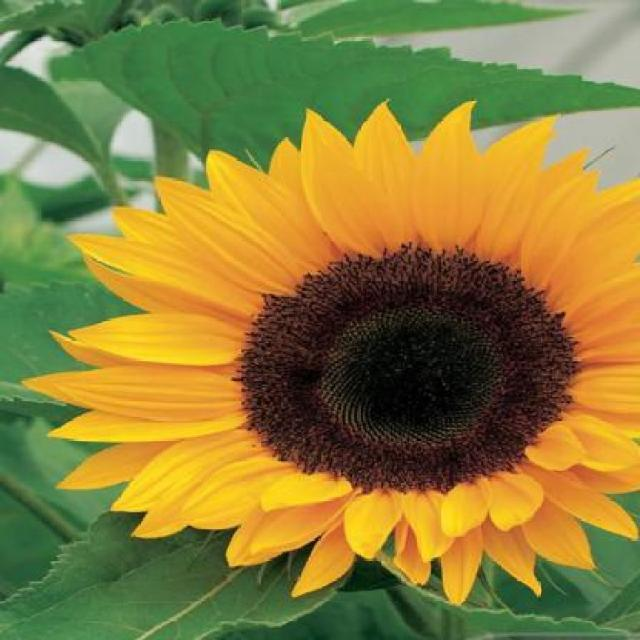sunflower: (21, 92, 638, 618)
